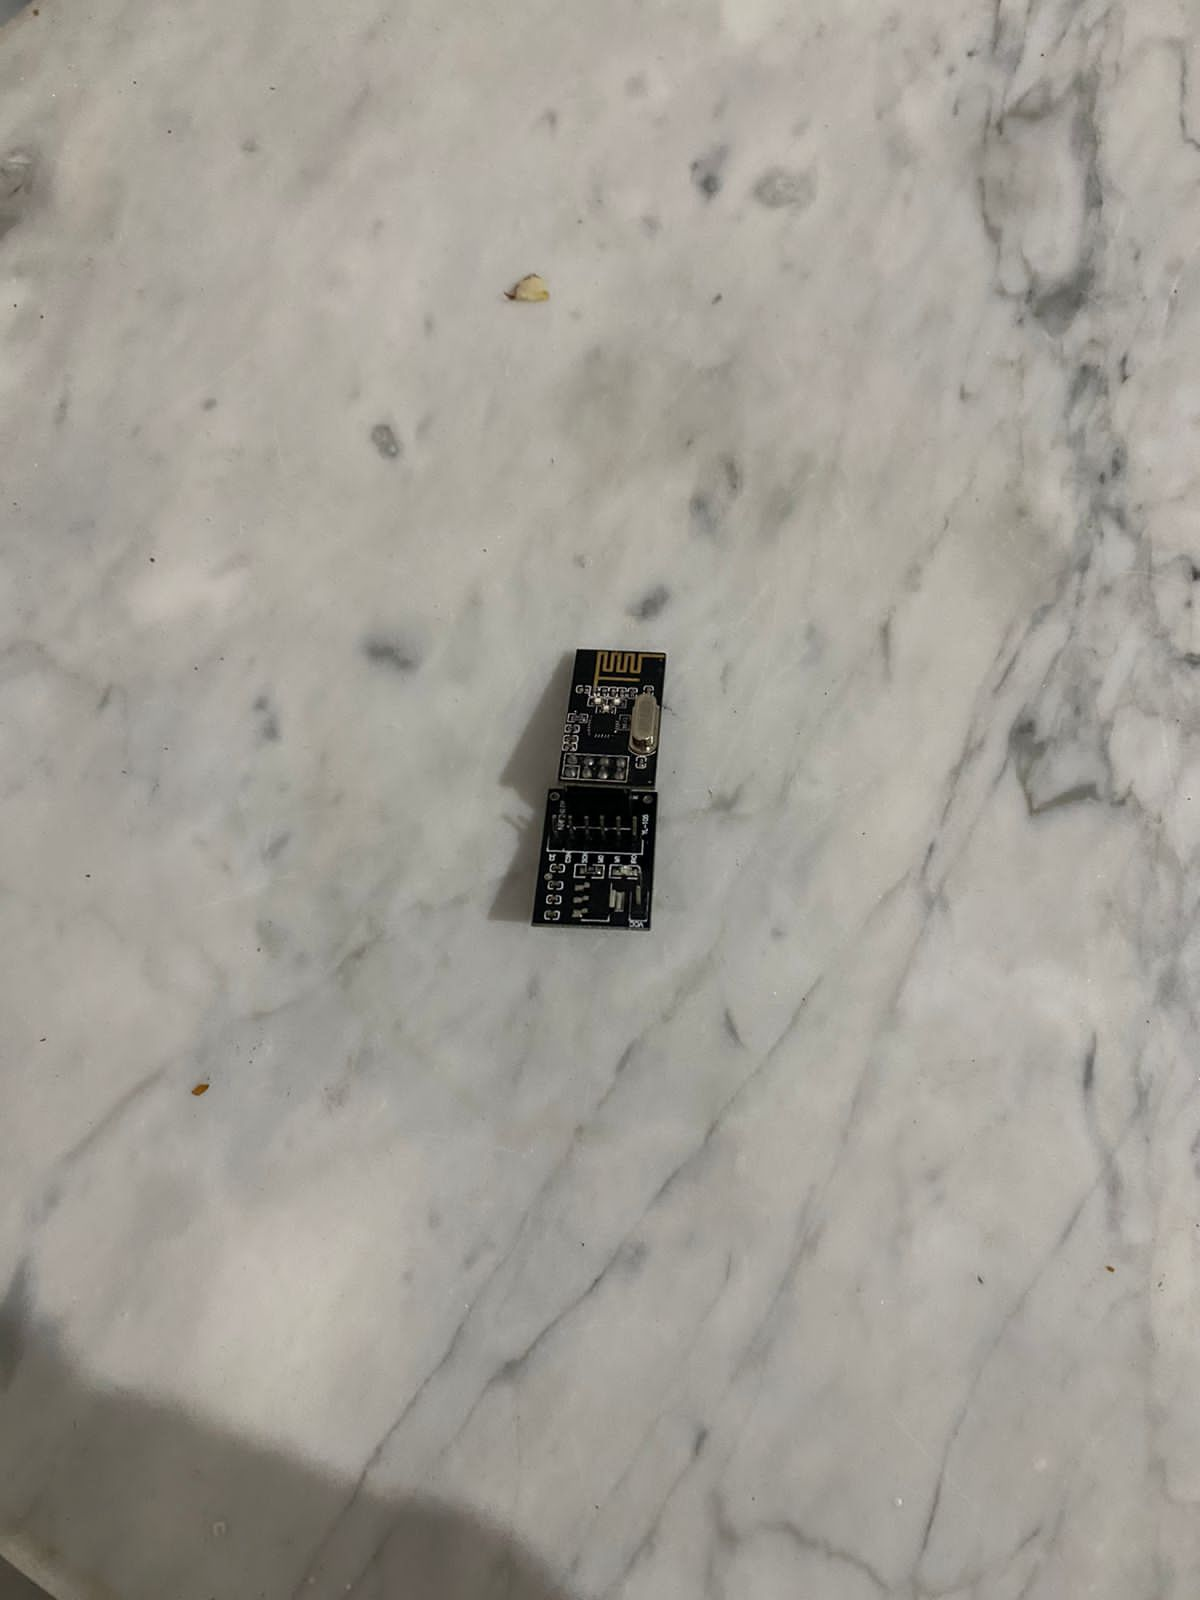RF-module: (533, 632, 684, 942)
